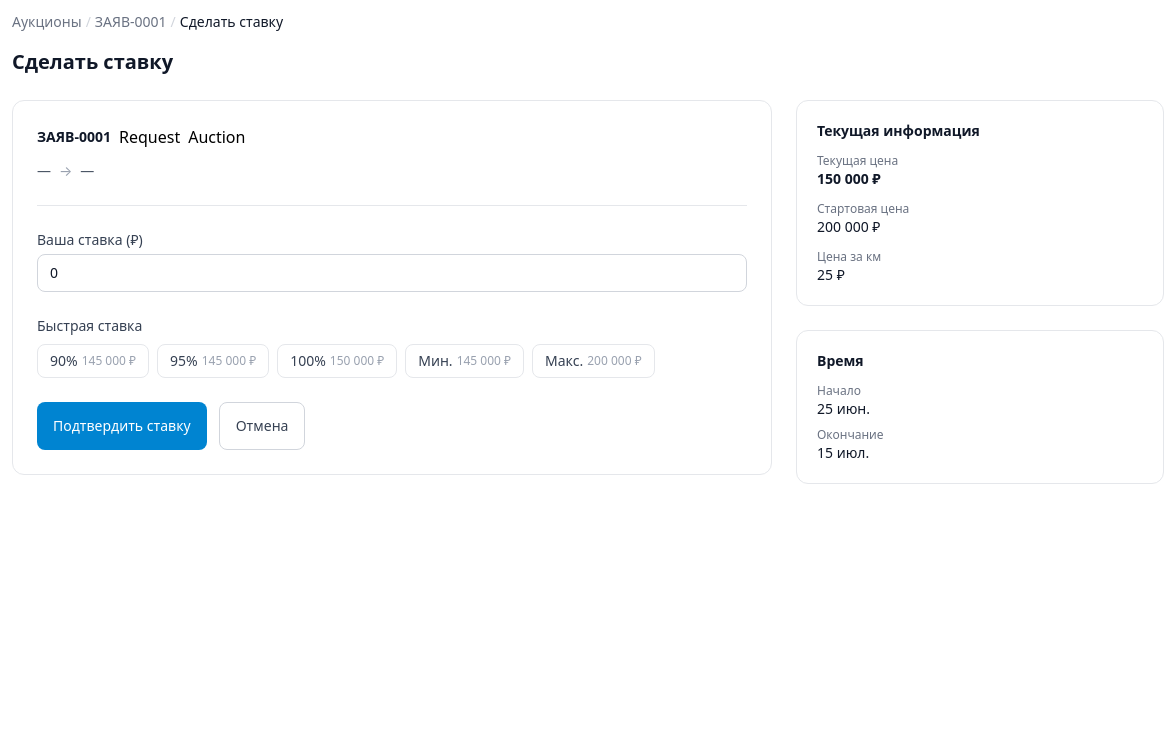
Test: PlaceBetPage integration › sets min price via quick bet button
The image size is (1164, 732).
Expected: the heading "Сделать ставку" is shown, 12,48 -> 173,75
Click the button "Мин. 145 000 ₽": x=465, y=361 405,344 -> 524,378
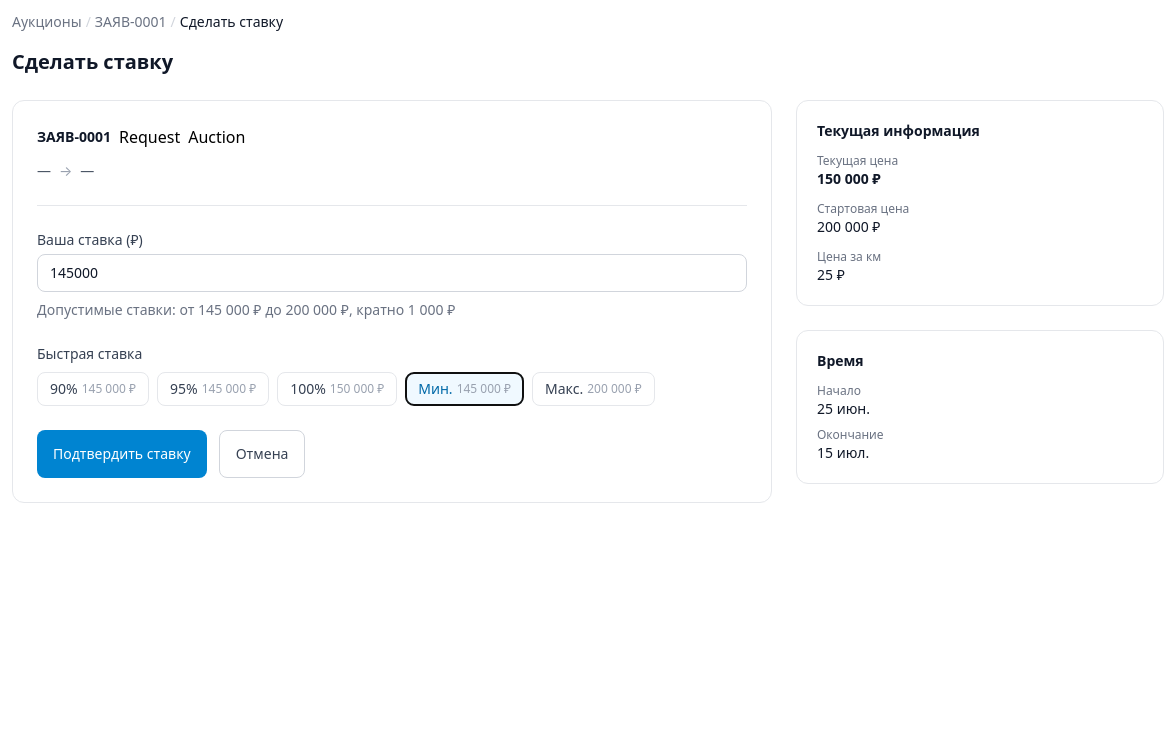
Expected: the number field with test id "price" holds "145000", 37,254 -> 747,292
